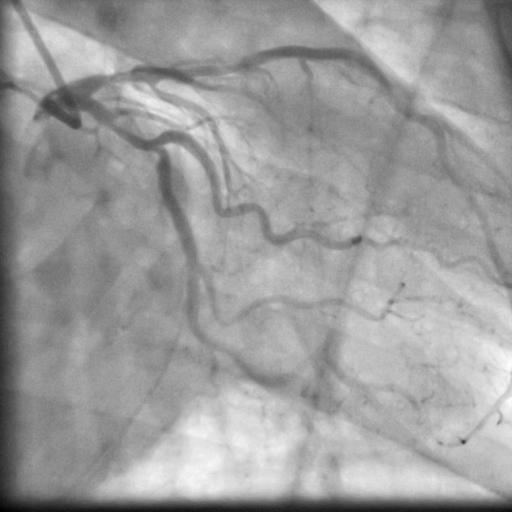Stenosis: (187, 55, 255, 75)
